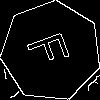F: (26, 26, 79, 71)
